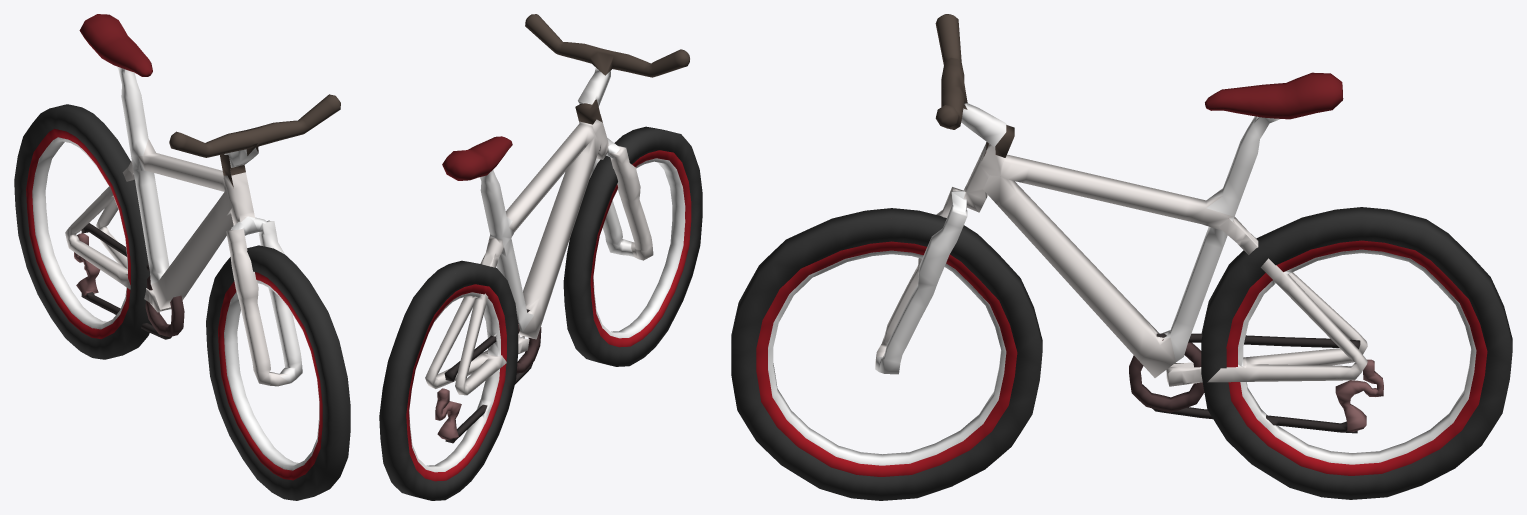
Rendered from bicycle.fbx.
3 views of the same model, side by side, from view 1: azimuth 30°, elevation 25°; view 2: azimuth 150°, elevation 25°; view 3: azimuth 270°, elevation 25° (orthographic). The views are drawn at different scales.
Parts seen in each view (by area): view 1: unamed; view 2: unamed; view 3: unamed.
Part boxes in pixels (x1,y1,x2,y2): unamed: (14, 14, 350, 500); unamed: (379, 14, 702, 500); unamed: (731, 14, 1512, 500).
Bounding box in the file's own units: 0.486 × 0.9773 × 1.59.
1 material, 1 textured.
